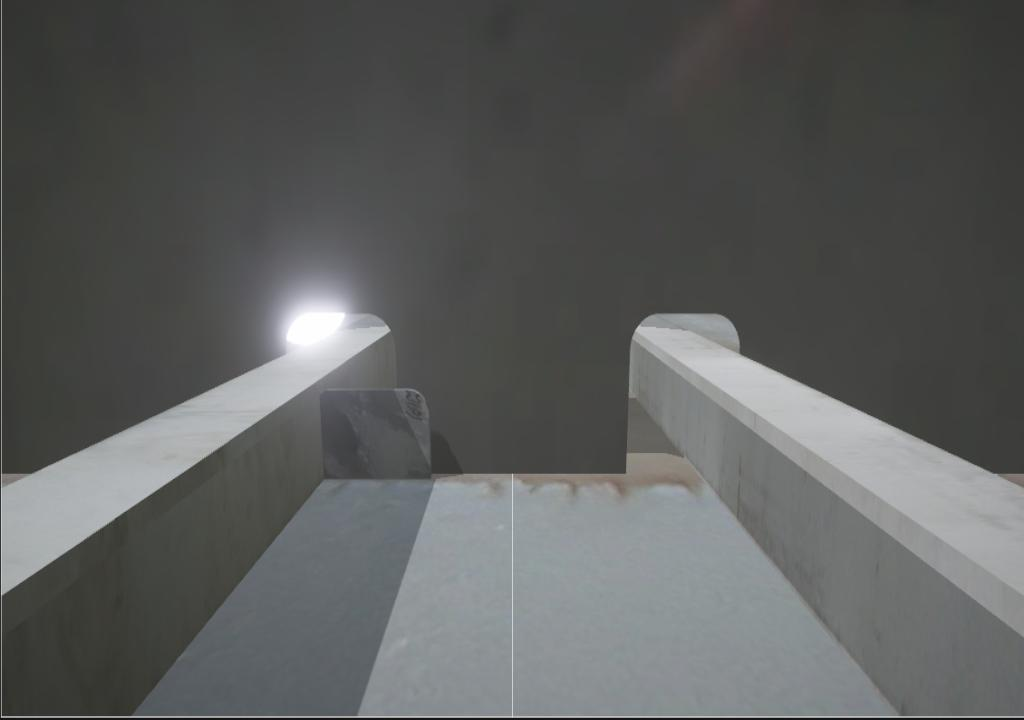fillet_yong_jeop_jang: (433, 468, 634, 479)
plate_CP05: (320, 388, 431, 480)
